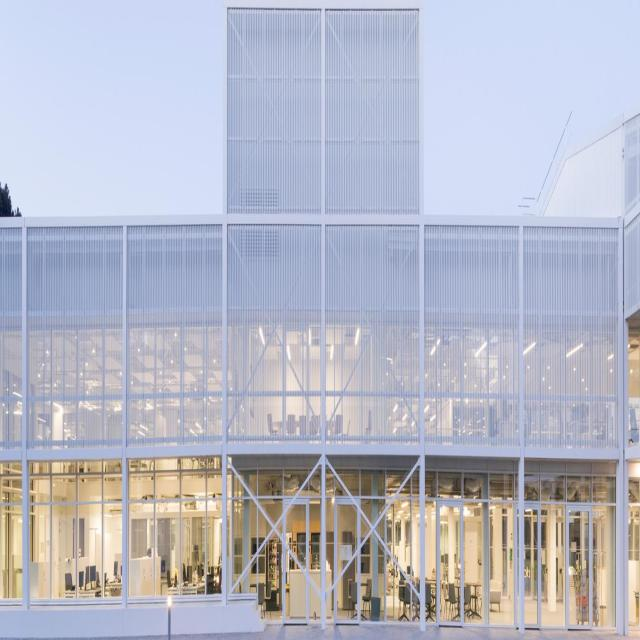door: (565, 502, 593, 637), (514, 500, 542, 632), (436, 498, 464, 628), (334, 498, 361, 630), (282, 497, 309, 628)
wall: (0, 0, 640, 637)
windows: (1, 465, 640, 638)
